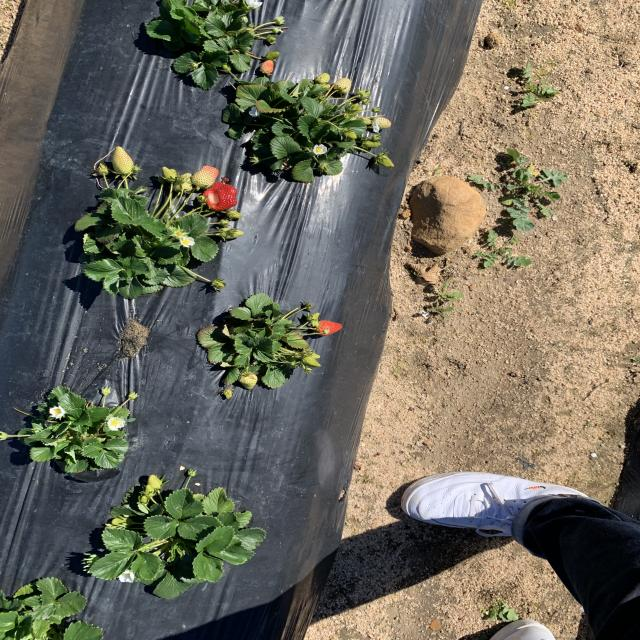unripe: (201, 180, 239, 212), (316, 321, 342, 335)
